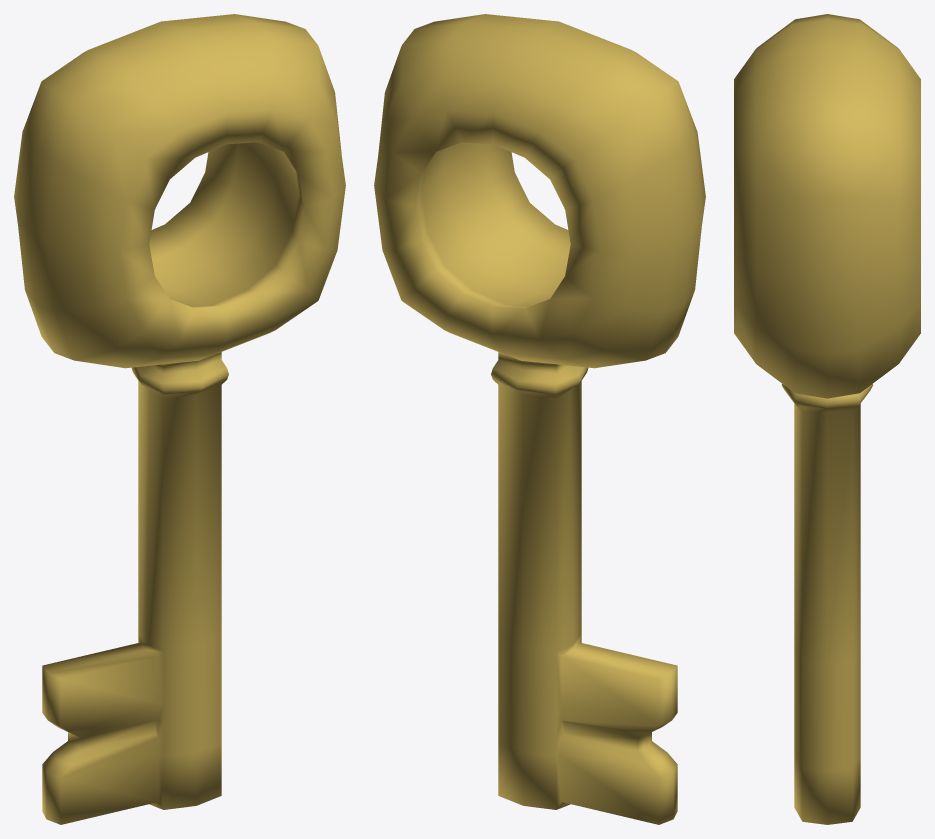
The model's file is Key_Collectable.fbx.
The picture shows the model from 3 angles, left to right: view 1: azimuth 30°, elevation 25°; view 2: azimuth 150°, elevation 25°; view 3: azimuth 270°, elevation 25°; orthographic projection.
Visible parts, largest first — view 1: Cube; view 2: Cube; view 3: Cube.
Boxes of the visible parts, x1,y1,x2,y2 form: Cube: [14, 14, 345, 824]; Cube: [374, 14, 705, 824]; Cube: [734, 14, 920, 824].
Size of the model in its own units: 101 by 53.56 by 241.
